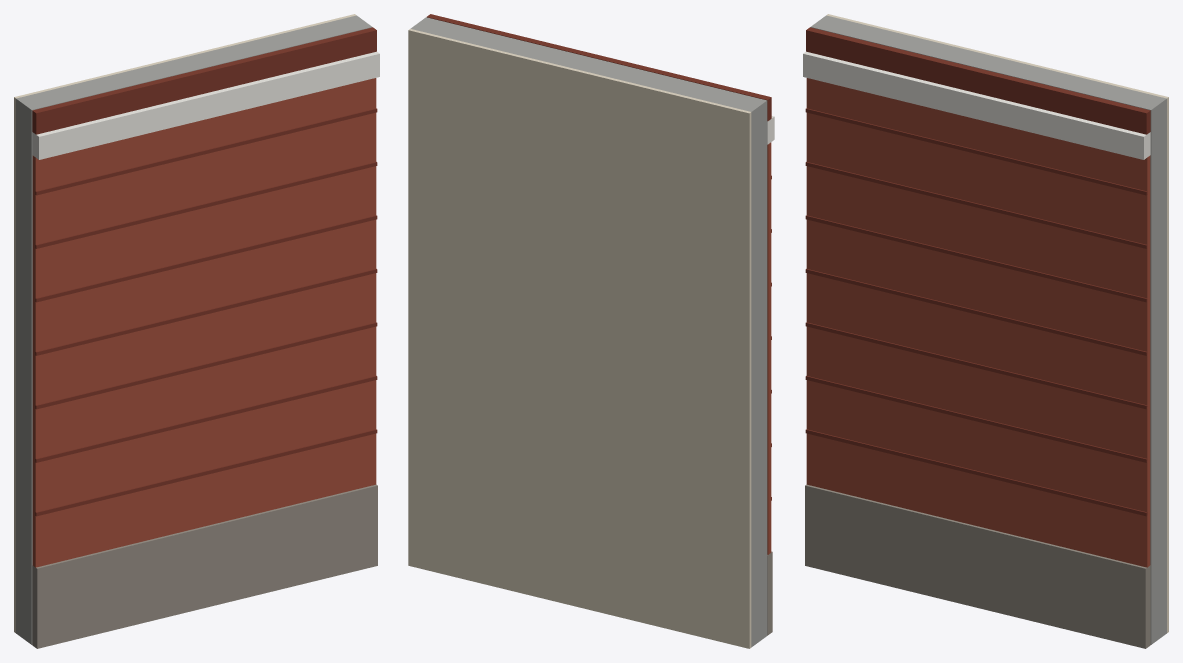
The model's file is Wall_Brick.glb.
3 views of the same model, side by side, from view 1: azimuth 30°, elevation 25°; view 2: azimuth 150°, elevation 25°; view 3: azimuth 330°, elevation 25° (orthographic).
Visible parts, largest first — view 1: Wall_Brick; view 2: Wall_Brick; view 3: Wall_Brick.
Boxes of the visible parts, <box> form: Wall_Brick: <box>14,14,379,648</box>; Wall_Brick: <box>408,14,774,648</box>; Wall_Brick: <box>803,14,1168,648</box>.
Bounding box in the file's own units: 2 × 3 × 0.255.
1 material, 1 textured.
